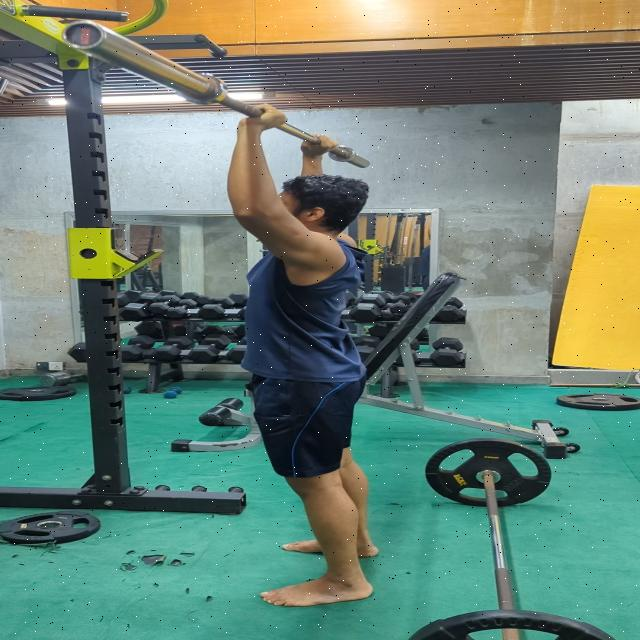Normal_OverheadPress: (210, 95, 391, 623)
